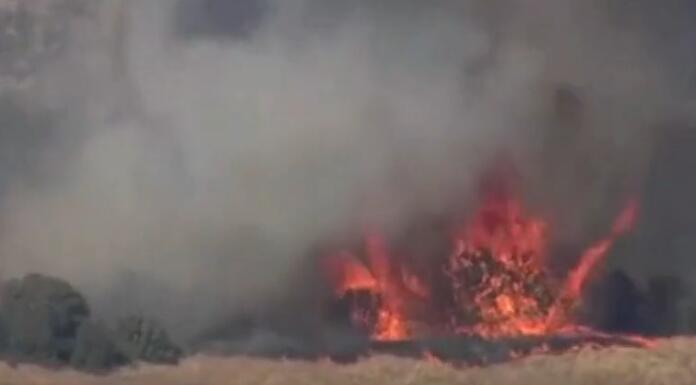fire: (326, 178, 653, 355)
smoke: (0, 1, 695, 355)
